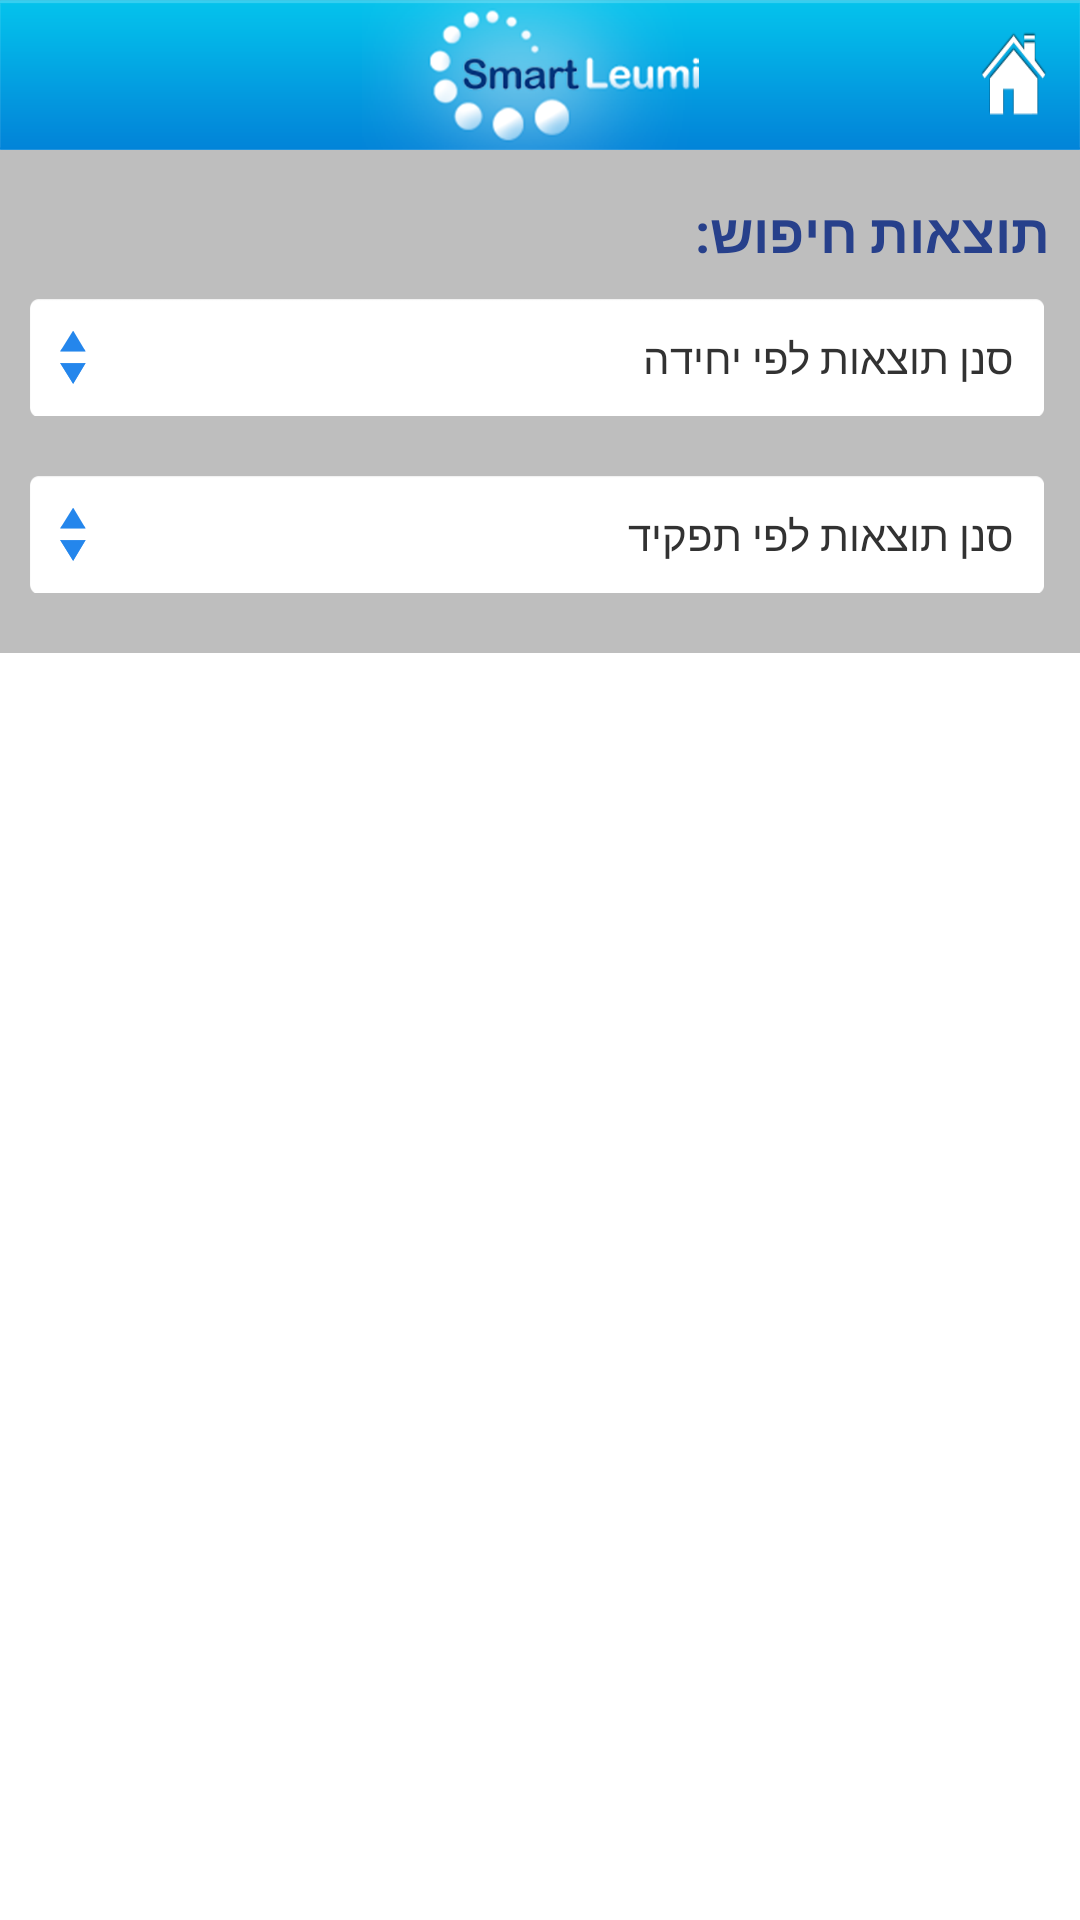

Icon click points for this 1080px×1920px phone screenshot, format (x=x, y=y):
home: (x=1014, y=75)
updownarrow: (x=73, y=357), (x=73, y=534)
